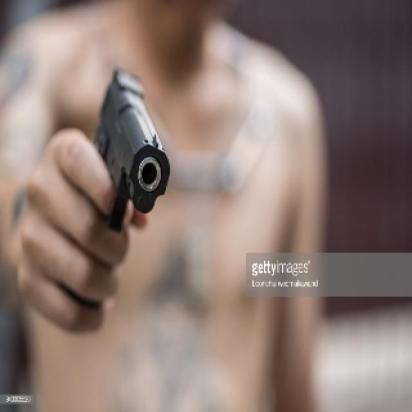Gun: (92, 64, 175, 230)
